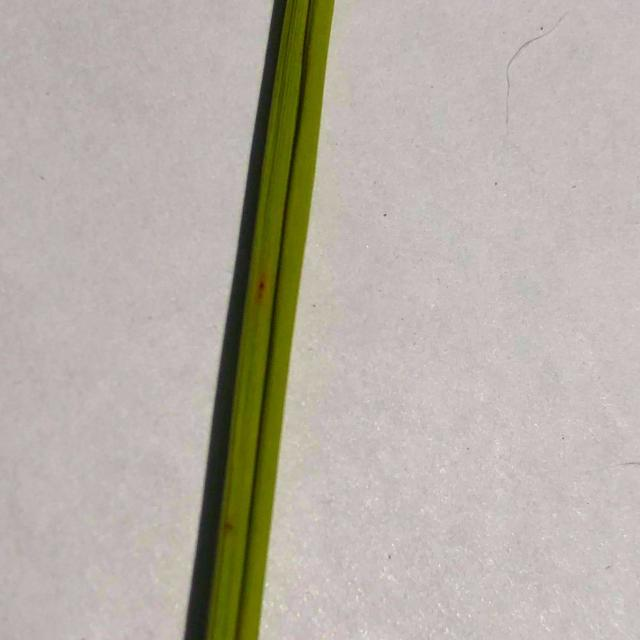brownspots: (254, 266, 274, 314), (218, 514, 248, 541)
